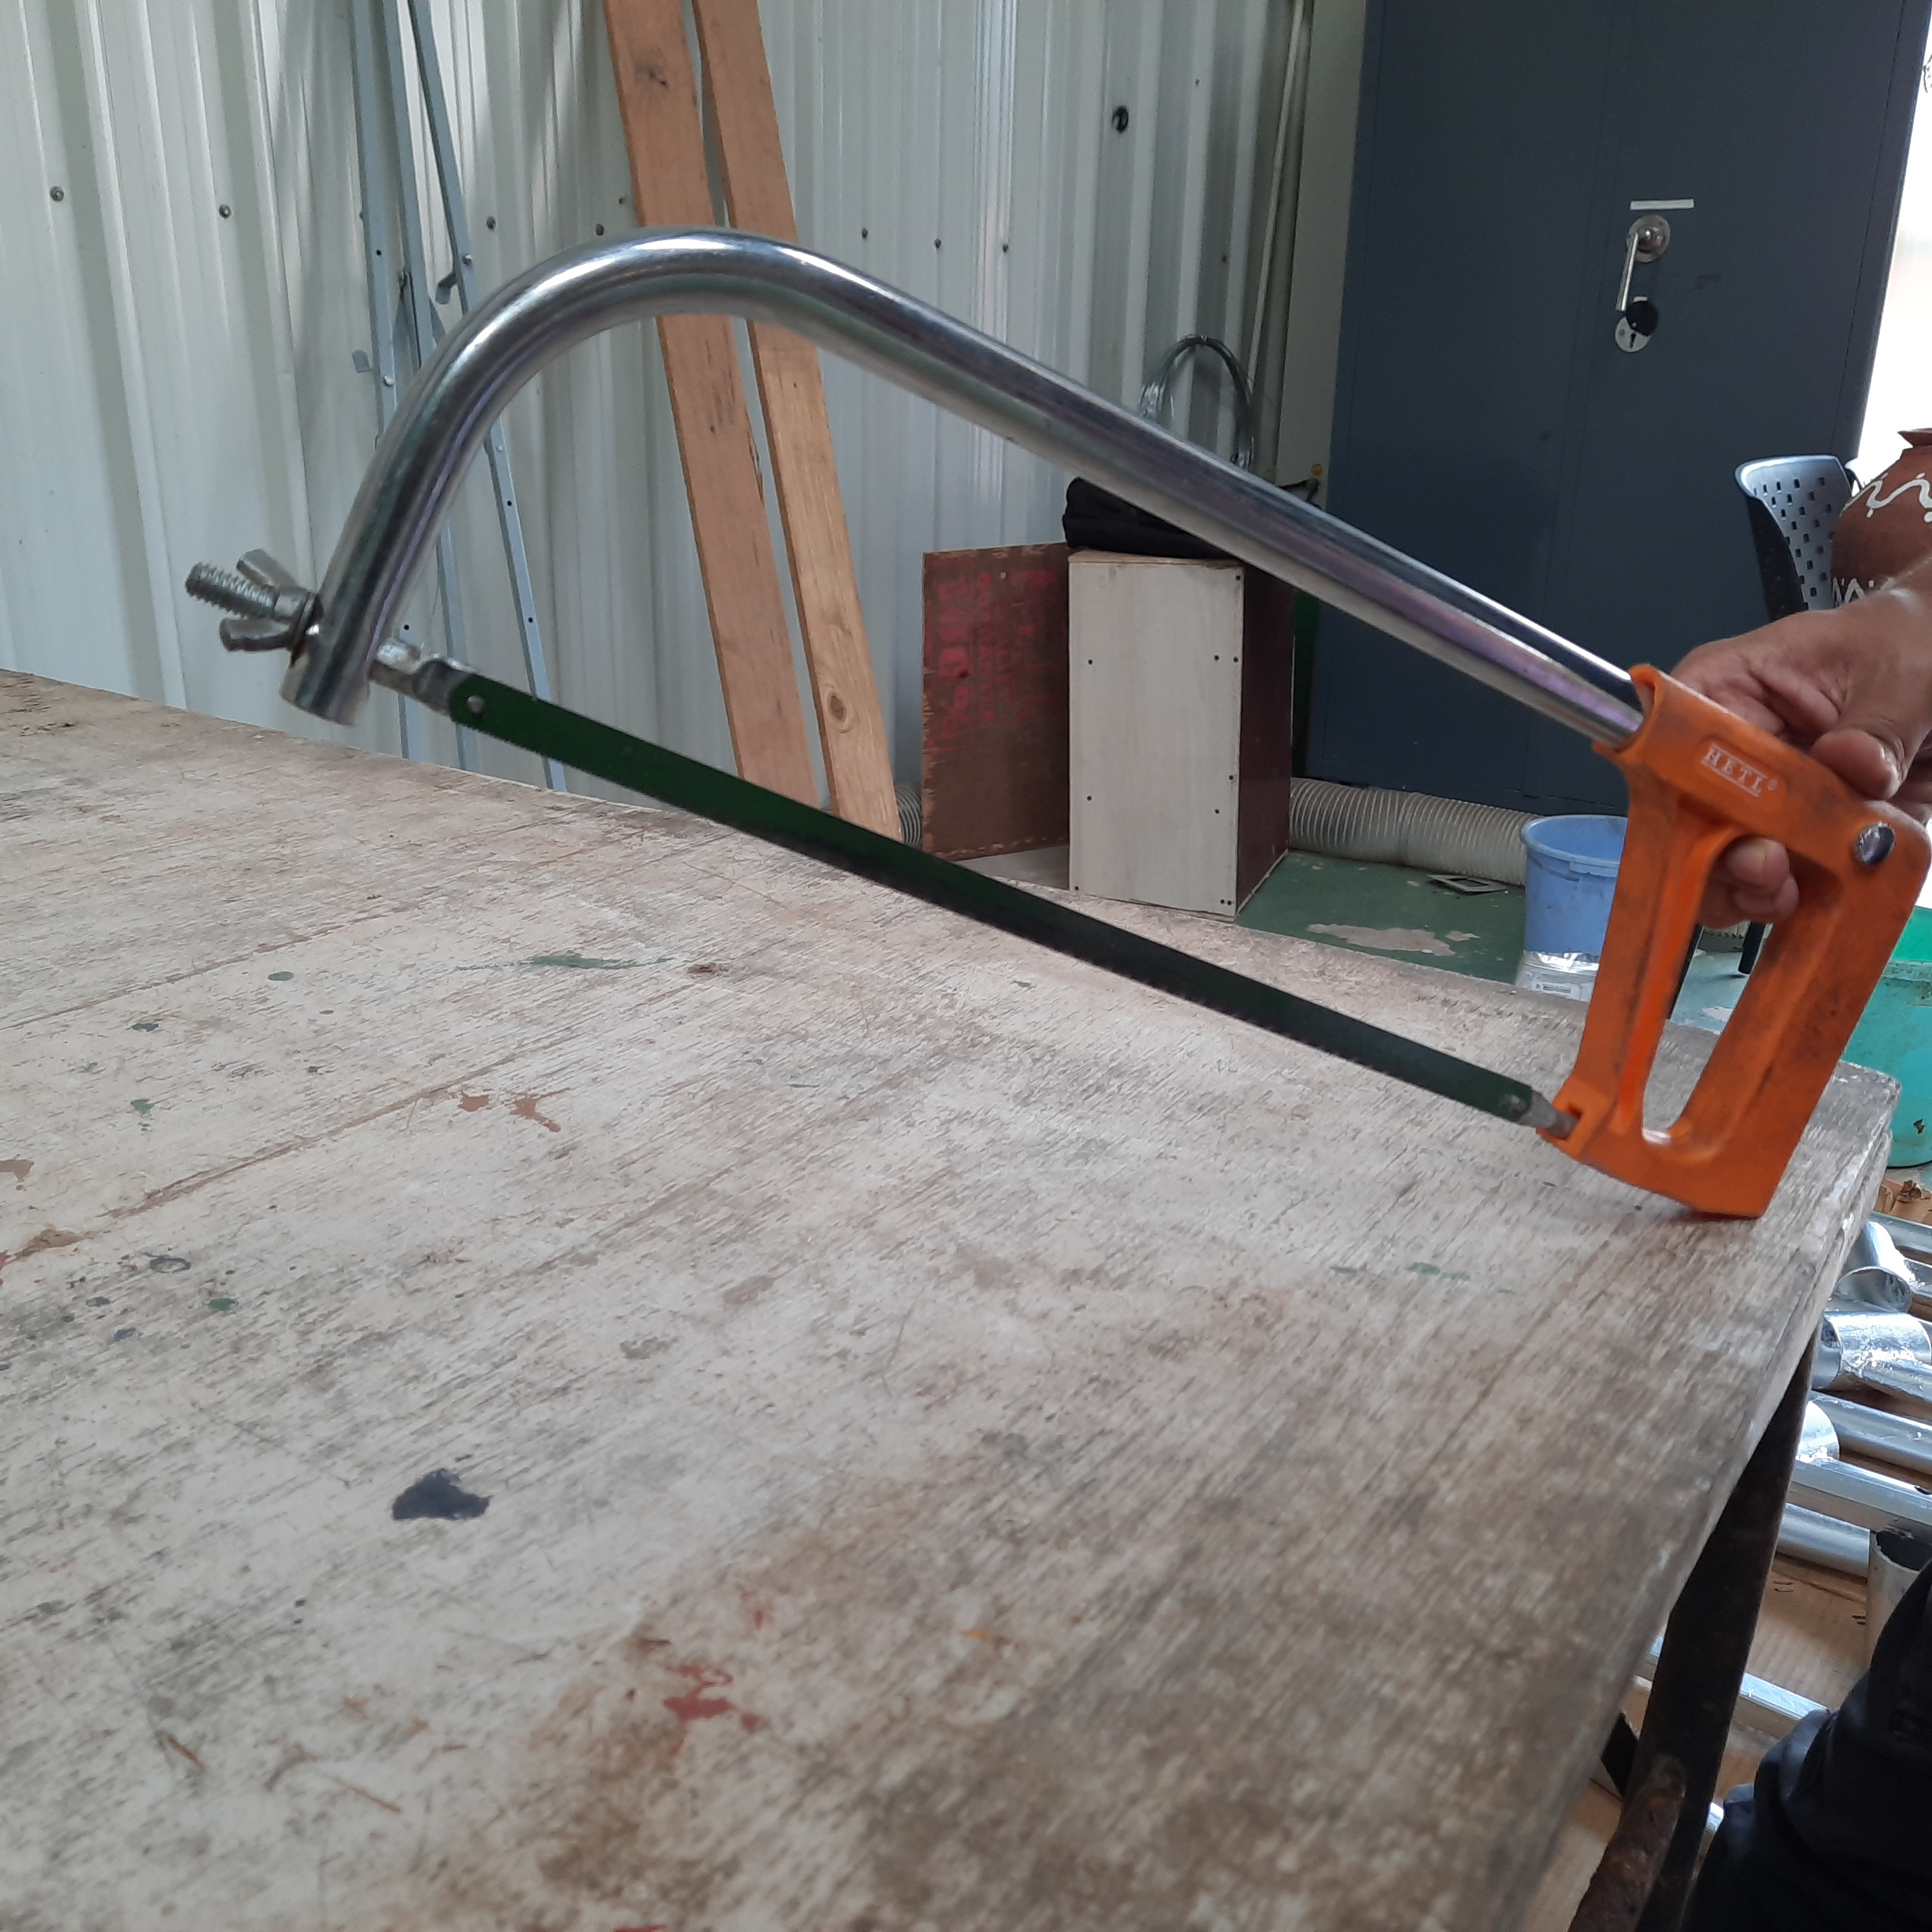Hexaframe: (168, 216, 1932, 1251)
